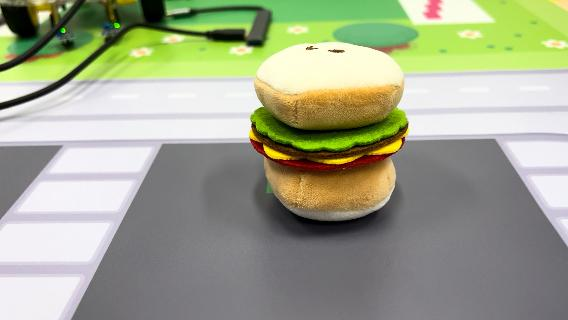sandwich: (248, 39, 412, 223)
